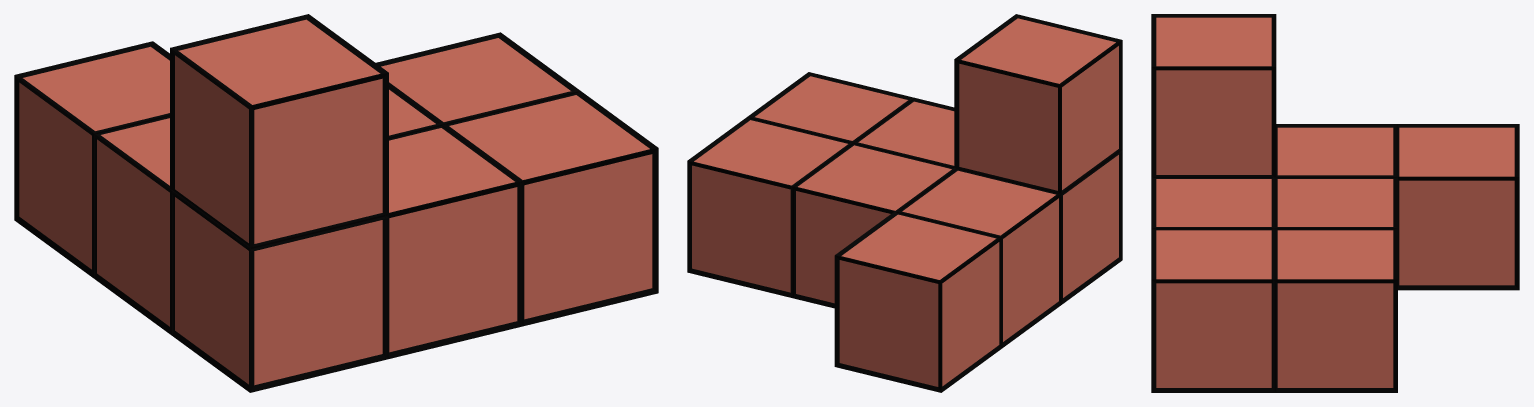
3 views of the same model, side by side, from view 1: azimuth 30°, elevation 25°; view 2: azimuth 150°, elevation 25°; view 3: azimuth 270°, elevation 25° (orthographic). The views are drawn at different scales.
Parts seen in each view (by area): view 1: b3:Mesh; view 2: b3:Mesh; view 3: b3:Mesh.
Part boxes in pixels (x1,y1,x2,y2): b3:Mesh: [14, 14, 658, 392]; b3:Mesh: [687, 14, 1122, 392]; b3:Mesh: [1151, 14, 1519, 392].
Size of the model in its own units: 6.06 by 4.06 by 6.06.
